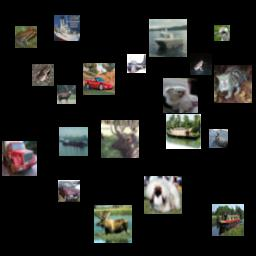airplane: (127, 54, 146, 73)
automobile: (83, 63, 115, 95), (58, 180, 80, 202)
bird: (214, 25, 230, 41)
cat: (214, 65, 252, 103)
deer: (101, 120, 139, 158), (94, 205, 132, 243), (57, 85, 76, 104), (209, 129, 228, 148)
dog: (144, 176, 182, 214), (163, 78, 198, 113)
frog: (190, 53, 212, 75), (15, 26, 37, 48), (32, 64, 54, 86)
ship: (149, 19, 187, 57), (166, 114, 201, 149), (212, 204, 244, 236), (59, 127, 88, 156), (54, 15, 80, 41)
truck: (2, 141, 37, 176)
